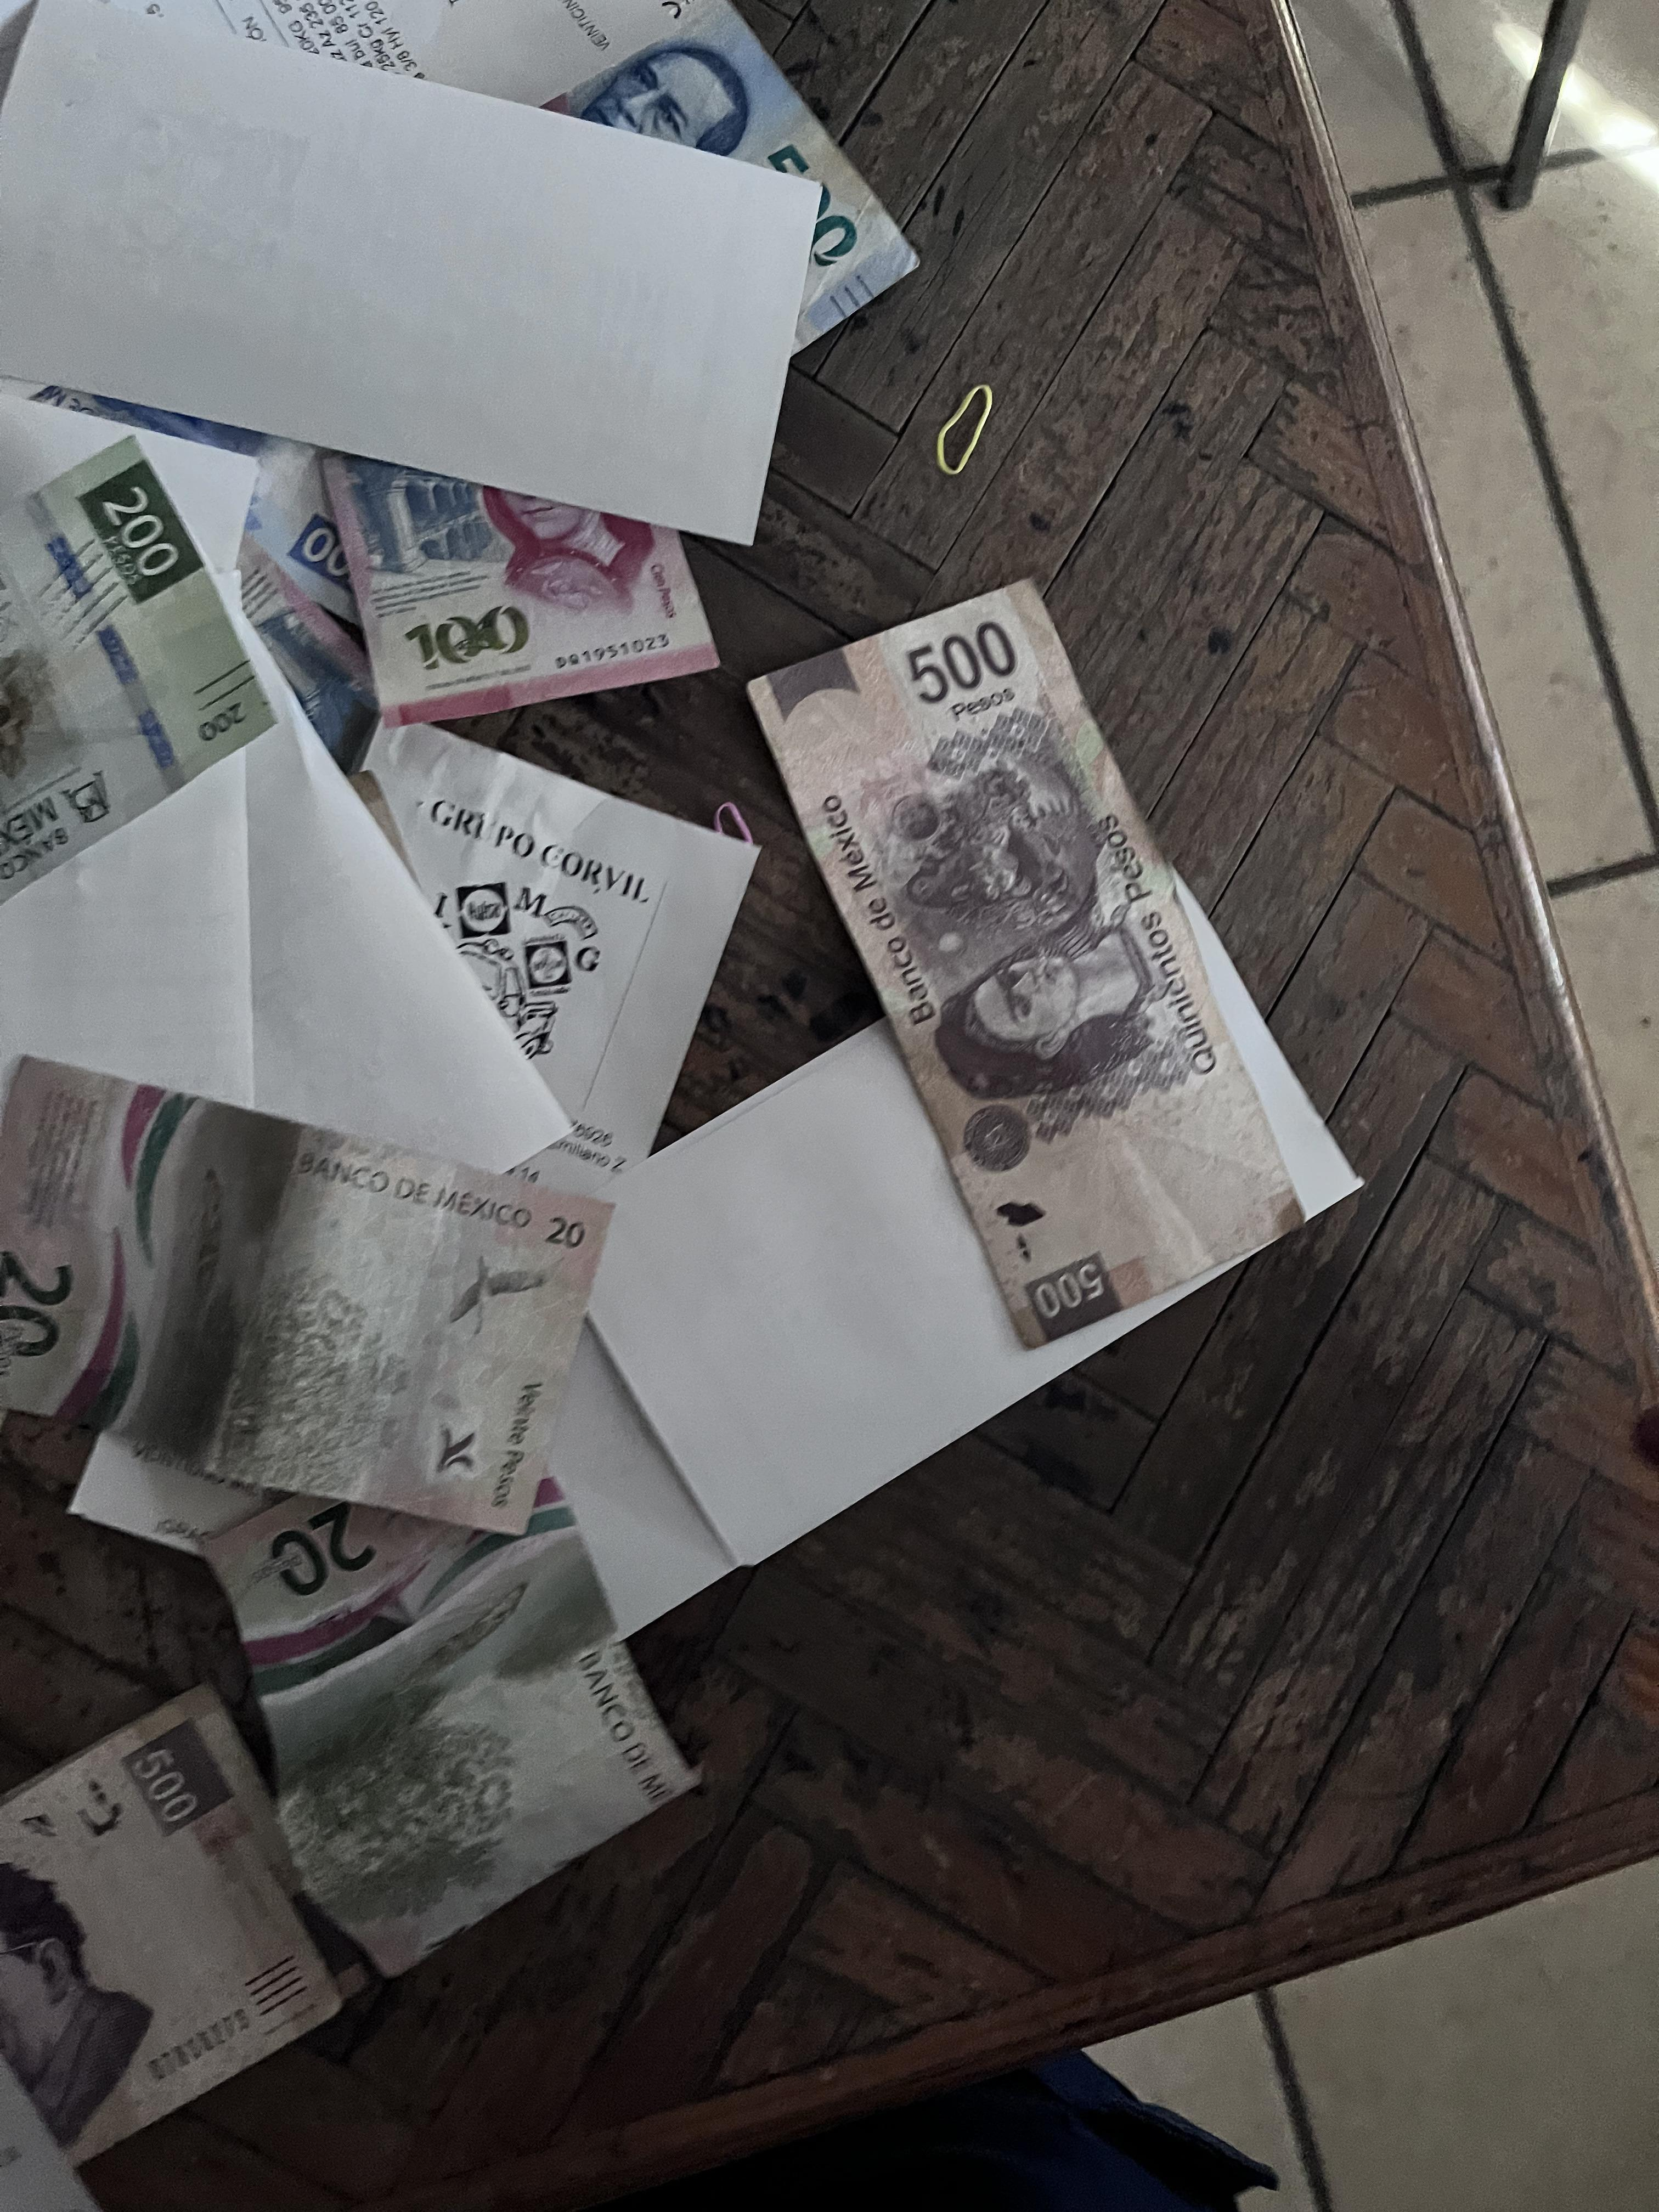100: (289, 327, 763, 705)
20: (0, 1029, 606, 1555), (186, 1454, 727, 1970)
200: (0, 439, 263, 954)
500: (732, 611, 1338, 1359), (0, 1731, 369, 2165)
500 nuevo: (476, 0, 951, 378)
